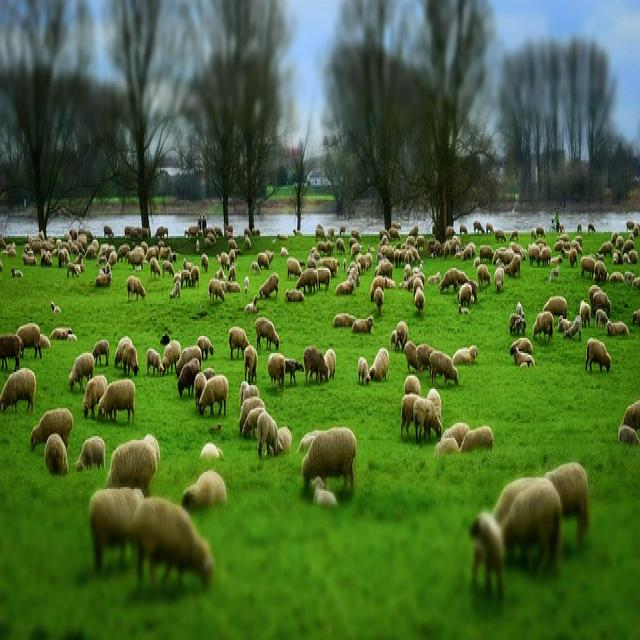goat: (132, 498, 214, 584), (501, 477, 561, 570), (90, 488, 144, 568), (301, 427, 356, 487), (108, 437, 160, 494), (470, 514, 502, 596), (32, 408, 72, 450), (182, 472, 226, 509), (98, 378, 135, 421), (0, 368, 36, 411), (199, 375, 229, 415), (76, 437, 105, 470), (44, 434, 68, 473), (460, 425, 494, 450), (16, 323, 40, 358), (452, 347, 478, 366), (514, 347, 535, 366)
